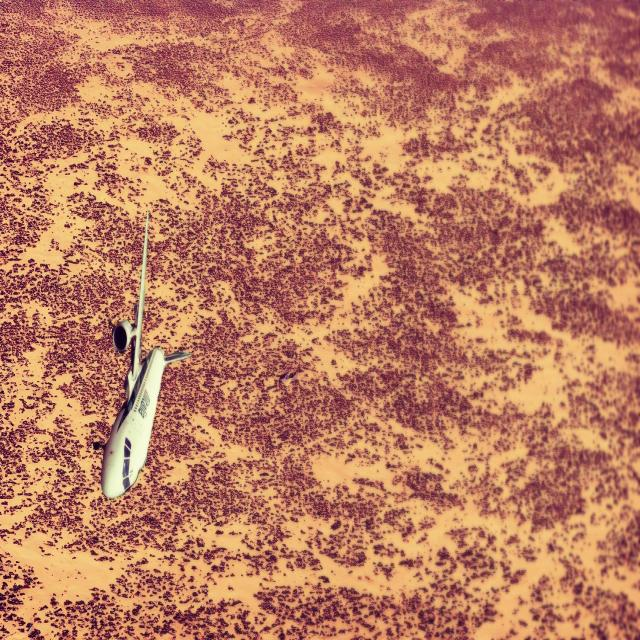airplane: (100, 209, 191, 500)
